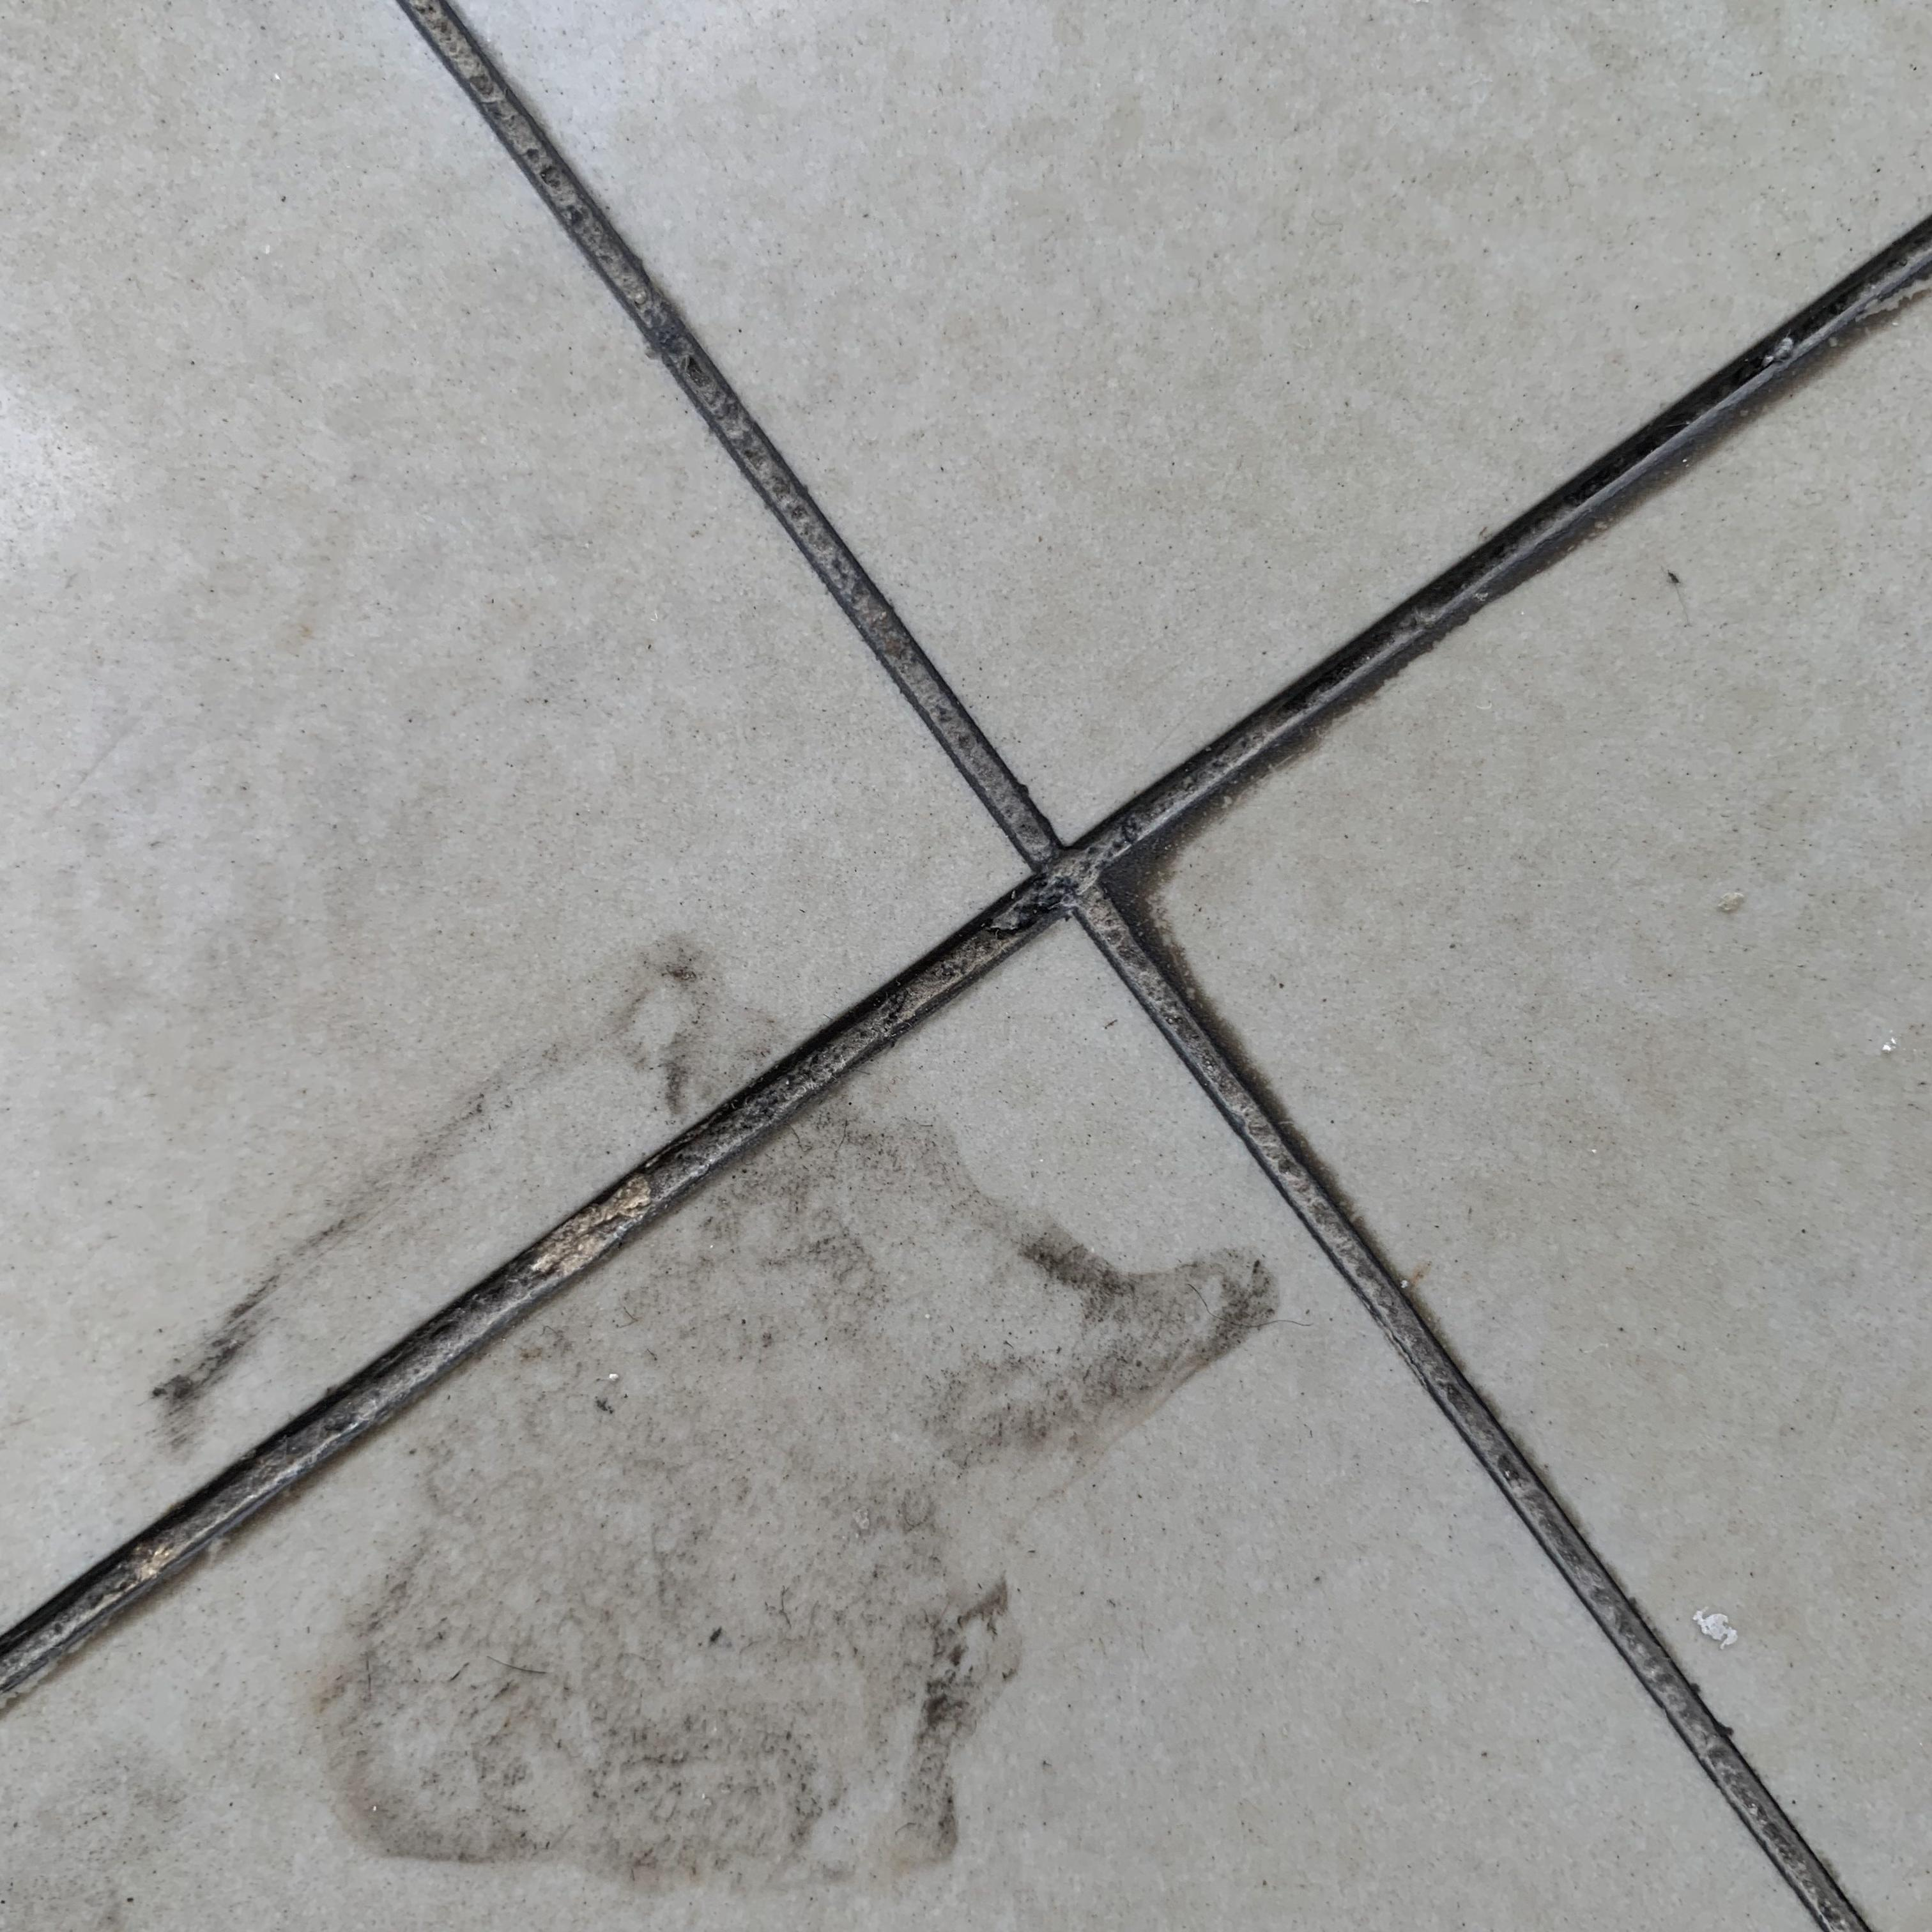grey spot: (147, 941, 1288, 1891)
reflection: (264, 0, 773, 226), (4, 379, 119, 584)
